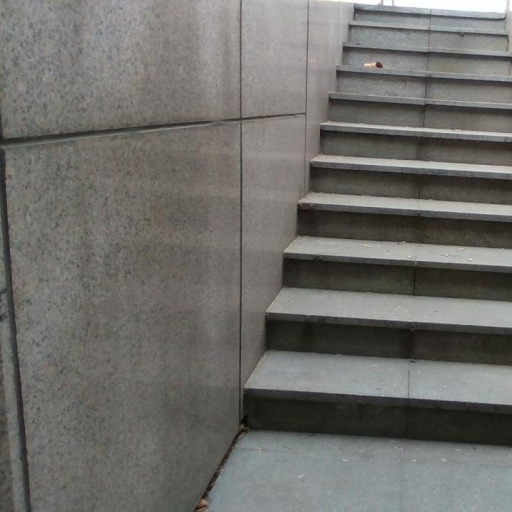Stairs: (208, 5, 512, 512)
